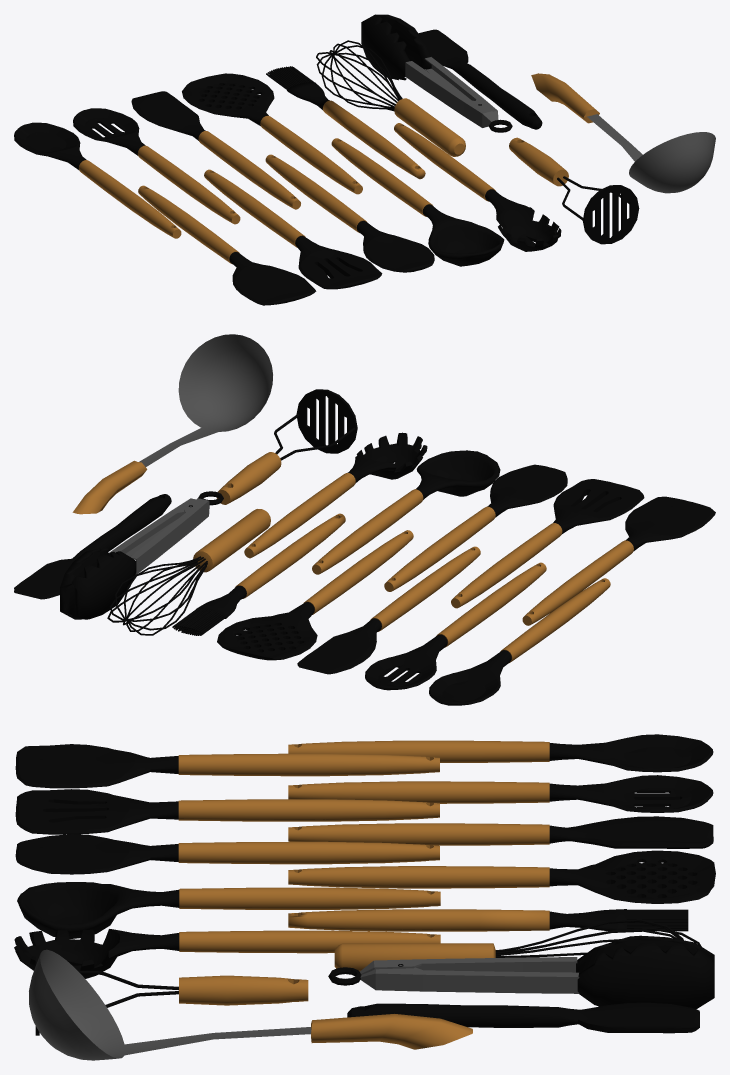
File: Kitchen Utensils.obj
3 renders of one model, top to bottom at view 1: azimuth 30°, elevation 25°; view 2: azimuth 150°, elevation 25°; view 3: azimuth 270°, elevation 25°, orthographic. The views are drawn at different scales.
Visible parts, largest first — view 1: Tongs_Torus, Ladle_Sphere.001, Mesh_Skimmer_Cylinder.007, Ladle_Rubber__Cylinder.019, Spatula_4_Cylinder.022, Spatula_3_Cylinder.025, Salad_Spoon_Cylinder.026, Spatula_2_Cylinder.021, Spoon_Cylinder, Whisk_Cylinder.012, Potato_Masher_Cylinder.028, Fish_Slice_Cylinder.003 (+3 smaller); view 2: Ladle_Sphere.001, Tongs_Torus, Mesh_Skimmer_Cylinder.007, Spatula_4_Cylinder.022, Spatula_3_Cylinder.025, Ladle_Rubber__Cylinder.019, Spatula_2_Cylinder.021, Spoon_Cylinder, Whisk_Cylinder.012, Salad_Spoon_Cylinder.026, Potato_Masher_Cylinder.028, Fish_Slice_Cylinder.003 (+3 smaller); view 3: Tongs_Torus, Ladle_Sphere.001, Mesh_Skimmer_Cylinder.007, Ladle_Rubber__Cylinder.019, Spatula_4_Cylinder.022, Spatula_3_Cylinder.025, Spatula_2_Cylinder.021, Spatula_5_Cylinder.006, Fish_Slice_Cylinder.003, Spoon_Cylinder, Salad_Spoon_Cylinder.026, Baster_Cylinder.011 (+3 smaller).
Boxes of the visible parts, x1,y1,x2,y2 form: Tongs_Torus: (361,14,512,132); Ladle_Sphere.001: (531,73,715,193); Mesh_Skimmer_Cylinder.007: (182,73,362,194); Ladle_Rubber__Cylinder.019: (331,138,504,266); Spatula_4_Cylinder.022: (204,169,382,289); Spatula_3_Cylinder.025: (138,185,316,305); Salad_Spoon_Cylinder.026: (394,123,561,251); Spatula_2_Cylinder.021: (265,154,434,272); Spoon_Cylinder: (14,122,181,238); Whisk_Cylinder.012: (316,40,465,156); Potato_Masher_Cylinder.028: (509,137,639,244); Fish_Slice_Cylinder.003: (73,108,240,224); Ladle_Sphere.001: (72,334,272,514); Tongs_Torus: (60,491,223,619); Mesh_Skimmer_Cylinder.007: (217,530,413,660); Spatula_4_Cylinder.022: (451,479,644,608); Spatula_3_Cylinder.025: (522,496,715,625); Ladle_Rubber__Cylinder.019: (312,450,500,574); Spatula_2_Cylinder.021: (384,464,567,591); Spoon_Cylinder: (429,578,610,705); Whisk_Cylinder.012: (107,509,270,635); Salad_Spoon_Cylinder.026: (244,432,427,558); Potato_Masher_Cylinder.028: (217,389,357,504); Fish_Slice_Cylinder.003: (365,562,546,690); Tongs_Torus: (328,935,714,1009); Ladle_Sphere.001: (29,949,472,1060); Mesh_Skimmer_Cylinder.007: (288,850,715,903); Ladle_Rubber__Cylinder.019: (17,882,440,938); Spatula_4_Cylinder.022: (15,789,439,834); Spatula_3_Cylinder.025: (15,744,439,788); Spatula_2_Cylinder.021: (15,834,439,874); Spatula_5_Cylinder.006: (288,816,713,848); Fish_Slice_Cylinder.003: (288,775,713,812); Spoon_Cylinder: (288,734,713,772); Salad_Spoon_Cylinder.026: (14,929,440,978); Baster_Cylinder.011: (288,909,688,931).
Size of the model in its own units: 12.82 by 2.25 by 11.23.
